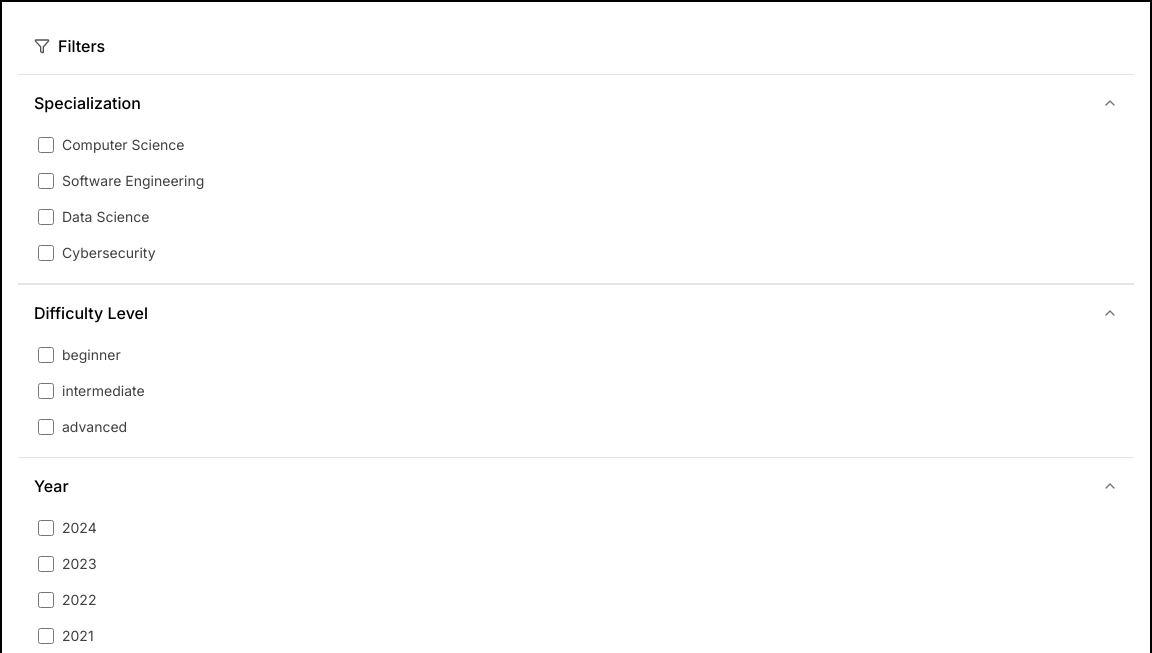
Test case: ProjectFilters › expands and collapses filter sections
Expected: the text "Computer Science" is shown, [62,136,184,153]
// Click to collapse
Click the button "Specialization" at point(87, 103), box [18,75,1134,131]
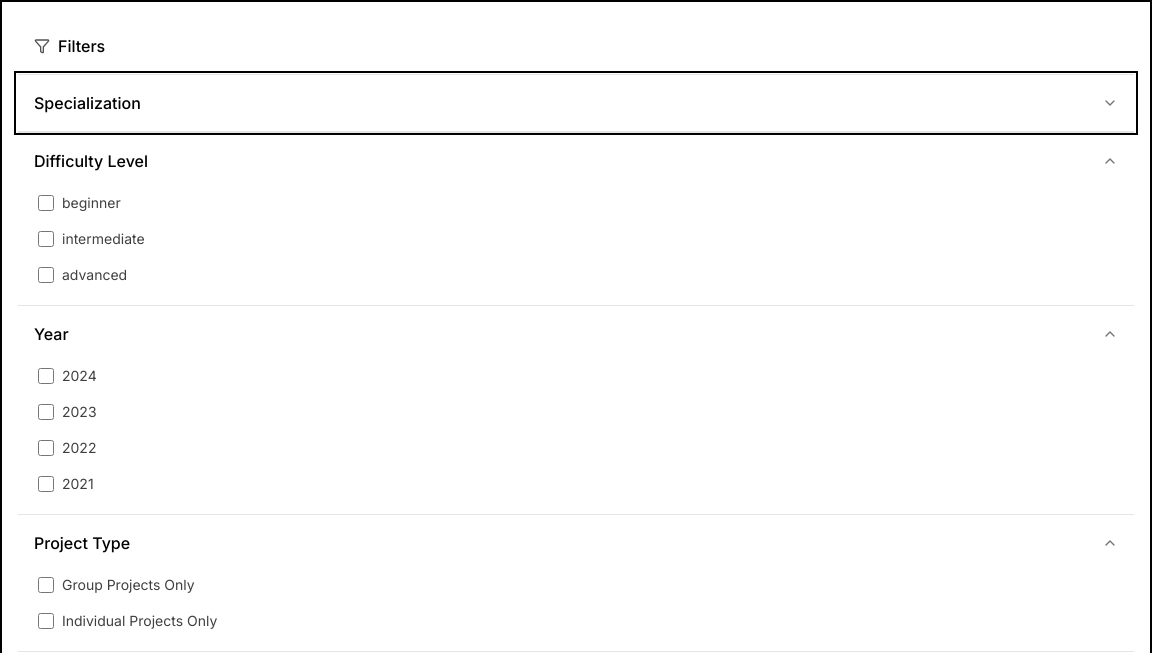
Expected: the text "Computer Science" is gone
// Click to expand again
Click the button "Specialization" at point(87, 103), box [18,75,1134,131]
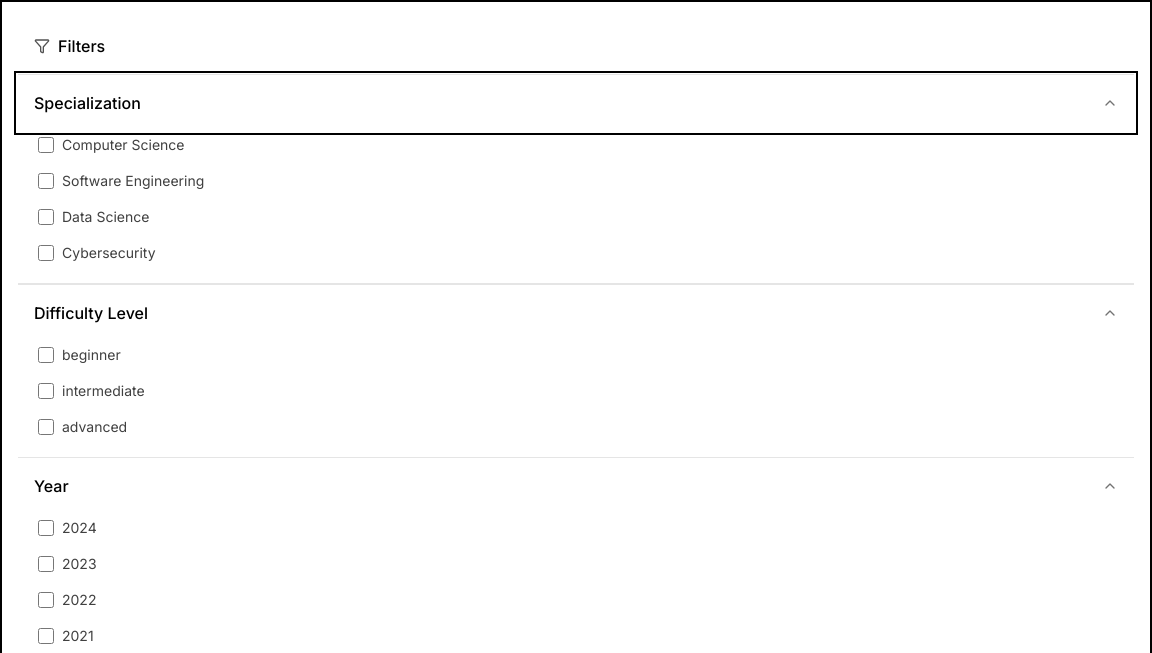
Expected: the text "Computer Science" is shown, [62,136,184,153]
